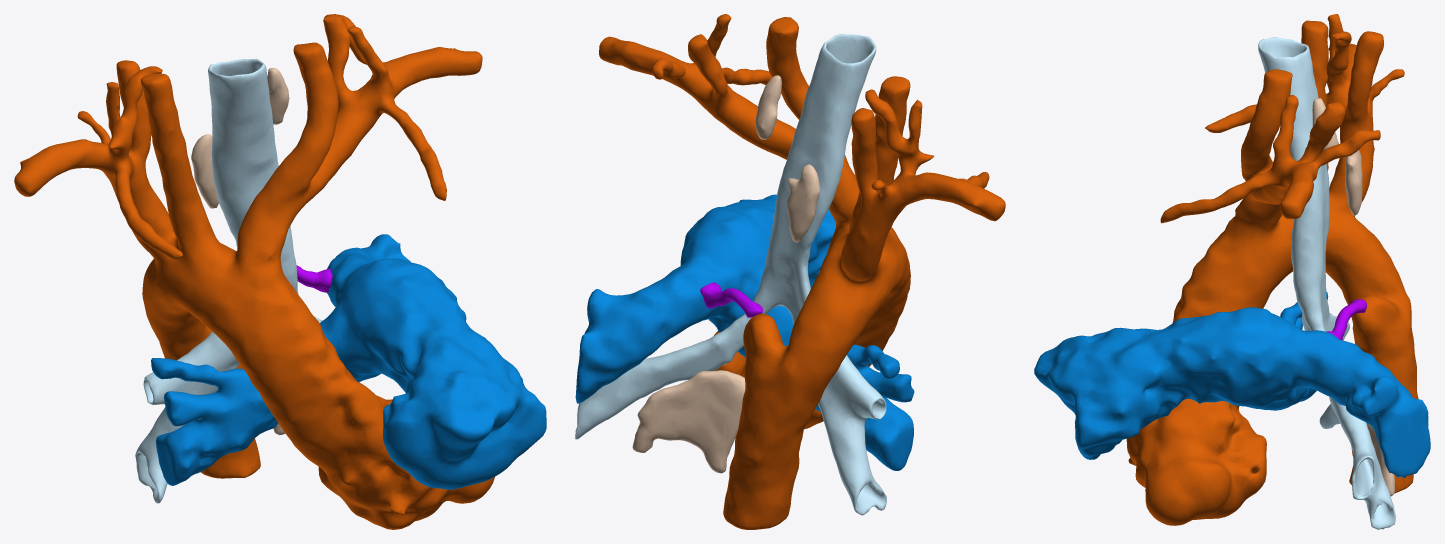
Rendered from RAA type2.gltf.
3 renders of one model, left to right at view 1: azimuth 30°, elevation 25°; view 2: azimuth 150°, elevation 25°; view 3: azimuth 270°, elevation 25°, orthographic. The views are drawn at different scales.
Parts seen in each view (by area): view 1: aorta, pulmonary artery, trachea, esophagus, leigamentum arteriosum; view 2: aorta, trachea, pulmonary artery, esophagus, leigamentum arteriosum; view 3: aorta, pulmonary artery, trachea, esophagus, leigamentum arteriosum.
Boxes of the visible parts, box(x1,y1,x2,y2) form: aorta: box(14, 14, 494, 529); pulmonary artery: box(151, 234, 546, 489); trachea: box(135, 58, 322, 503); esophagus: box(191, 68, 289, 435); leigamentum arteriosum: box(296, 265, 332, 292); aorta: box(599, 14, 1005, 529); trachea: box(575, 34, 886, 515); pulmonary artery: box(575, 194, 914, 470); esophagus: box(632, 75, 819, 473); leigamentum arteriosum: box(700, 282, 762, 317); aorta: box(1126, 14, 1418, 525); pulmonary artery: box(1034, 291, 1430, 477); trachea: box(1258, 37, 1396, 529); esophagus: box(1312, 98, 1394, 496); leigamentum arteriosum: box(1326, 299, 1366, 340).
Bounding box in the file's own units: 49.49 × 49.44 × 41.9.
